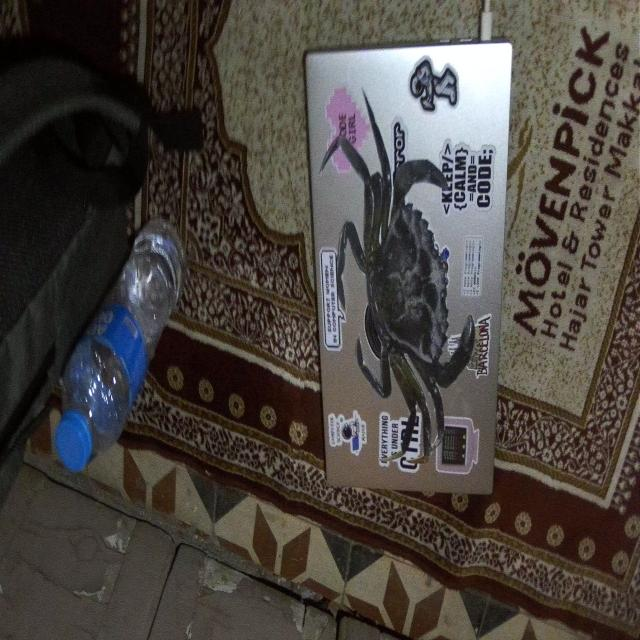European_Green_Crab: (297, 64, 501, 487)
